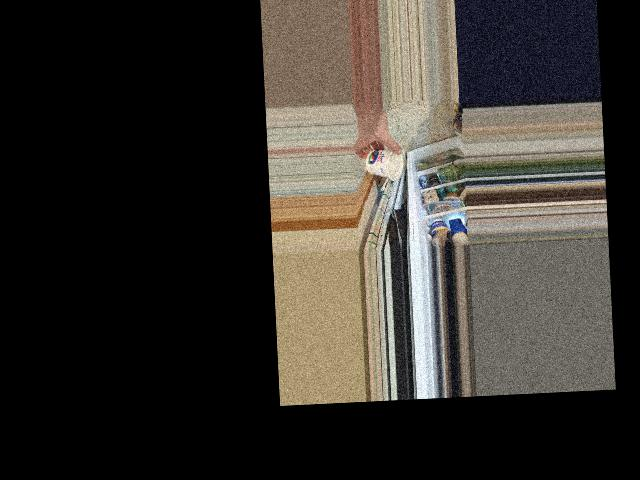cotage: (363, 145, 403, 181)
